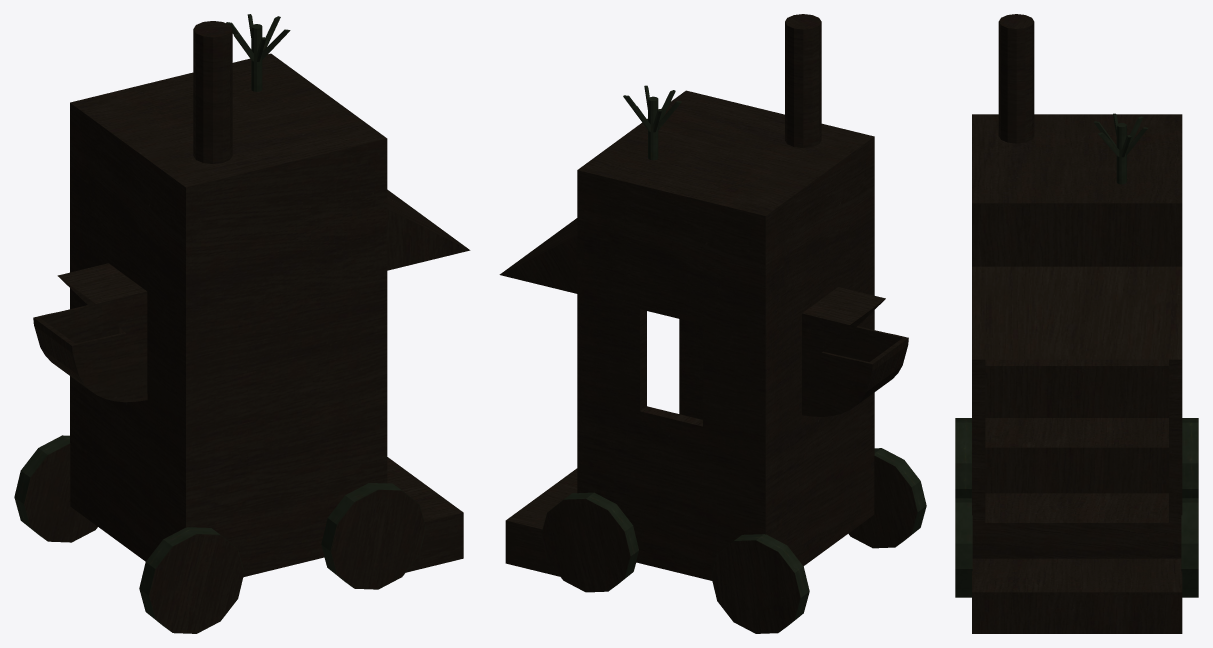
The model's file is Trojsky_Kun.fbx.
3 views of the same model, side by side, from view 1: azimuth 30°, elevation 25°; view 2: azimuth 150°, elevation 25°; view 3: azimuth 270°, elevation 25° (orthographic). The views are drawn at different scales.
Visible parts, largest first — view 1: Telo, Kola, Komin, Antena; view 2: Telo, Kola, Komin, Antena; view 3: Telo, Kola, Komin, Antena.
Part boxes in pixels (x1,y1,x2,y2): Telo: [33, 53, 470, 577]; Kola: [14, 435, 425, 633]; Komin: [193, 21, 232, 163]; Antena: [226, 14, 290, 91]; Telo: [499, 90, 908, 580]; Kola: [541, 448, 926, 633]; Komin: [785, 14, 821, 147]; Antena: [623, 85, 681, 160]; Telo: [972, 114, 1182, 633]; Kola: [955, 418, 1198, 597]; Komin: [998, 14, 1034, 143]; Antena: [1094, 113, 1147, 184].
Size of the model in its own units: 429 by 647 by 278.
